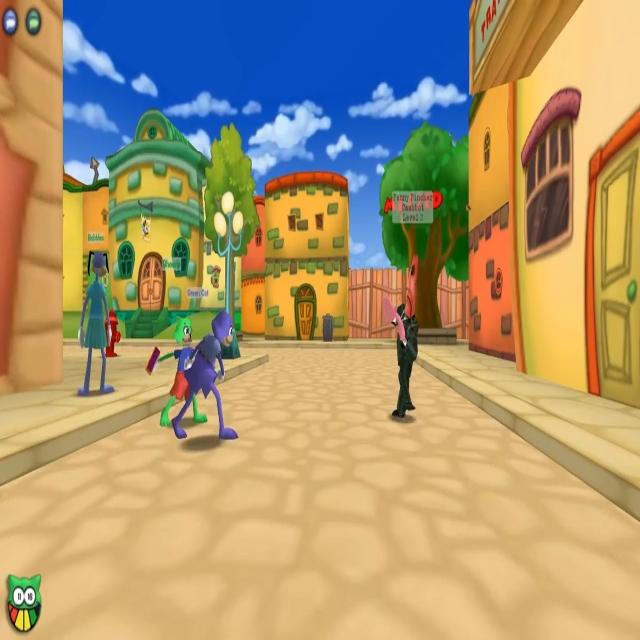pennypincher: (392, 267, 418, 423)
